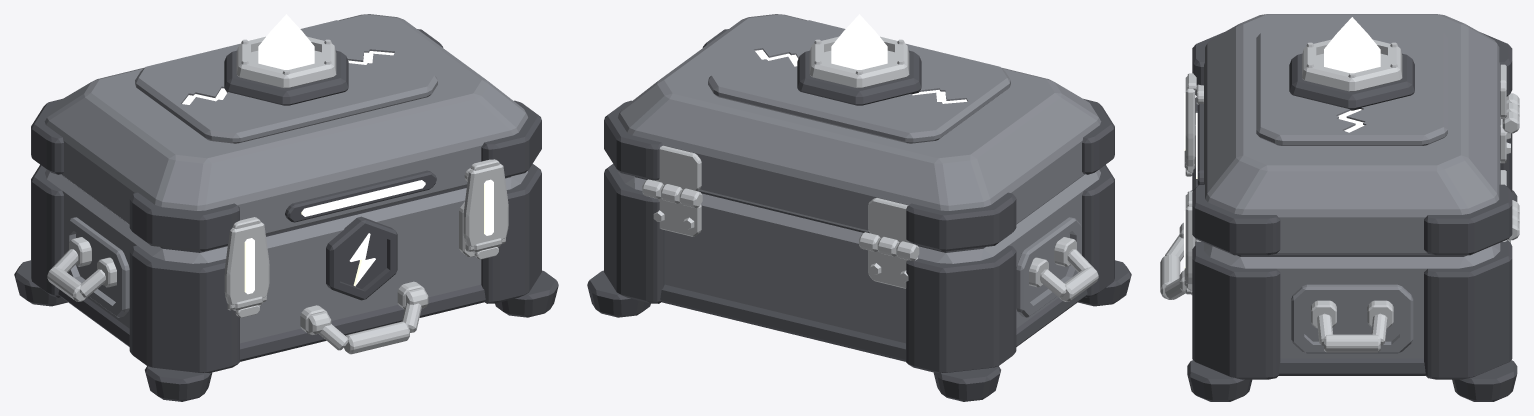
File: PowerCase.fbx
3 views of the same model, side by side, from view 1: azimuth 30°, elevation 25°; view 2: azimuth 150°, elevation 25°; view 3: azimuth 270°, elevation 25° (orthographic).
Visible parts, largest first — view 1: Lid_Body, Base_Frame, Base_Body, Lid_Frame, Base_Hardware, LatchR_Hardware, LatchL_Hardware, Lid_Hardware, Handle_Hardware, Gem_Gem, Lid_Light, LatchL_Light (+2 smaller); view 2: Lid_Body, Base_Frame, Base_Body, Lid_Frame, Lid_Hardware, Base_Hardware, Gem_Gem, Lid_Light; view 3: Lid_Body, Base_Frame, Base_Body, Lid_Frame, Lid_Hardware, Base_Hardware, Gem_Gem, Handle_Hardware, LatchL_Hardware, LatchR_Hardware, Lid_Light.
Boxes of the visible parts, x1,y1,x2,y2 form: Lid_Body: [44, 14, 527, 234]; Base_Frame: [14, 164, 558, 401]; Base_Body: [45, 169, 527, 343]; Lid_Frame: [31, 29, 541, 251]; Base_Hardware: [47, 202, 505, 334]; LatchR_Hardware: [463, 159, 508, 259]; LatchL_Hardware: [224, 217, 269, 317]; Lid_Hardware: [236, 36, 470, 181]; Handle_Hardware: [308, 288, 428, 354]; Gem_Gem: [258, 14, 314, 69]; Lid_Light: [182, 51, 425, 216]; LatchL_Light: [244, 238, 254, 294]; Lid_Body: [618, 14, 1101, 232]; Base_Frame: [587, 164, 1131, 401]; Base_Body: [618, 169, 1100, 343]; Lid_Frame: [604, 29, 1114, 251]; Lid_Hardware: [642, 36, 919, 260]; Base_Hardware: [653, 184, 1098, 301]; Gem_Gem: [831, 14, 887, 69]; Lid_Light: [755, 49, 967, 103]; Lid_Body: [1204, 14, 1500, 254]; Base_Frame: [1187, 97, 1517, 401]; Base_Body: [1204, 242, 1500, 358]; Lid_Frame: [1192, 32, 1512, 255]; Lid_Hardware: [1196, 39, 1519, 240]; Base_Hardware: [1186, 102, 1519, 352]; Gem_Gem: [1324, 17, 1380, 73]; Handle_Hardware: [1160, 222, 1185, 299]; LatchL_Hardware: [1184, 73, 1196, 176]; LatchR_Hardware: [1184, 191, 1195, 294]; Lid_Light: [1196, 109, 1364, 178].
Bounding box in the file's own units: 2.42 × 1.47 × 1.65.
